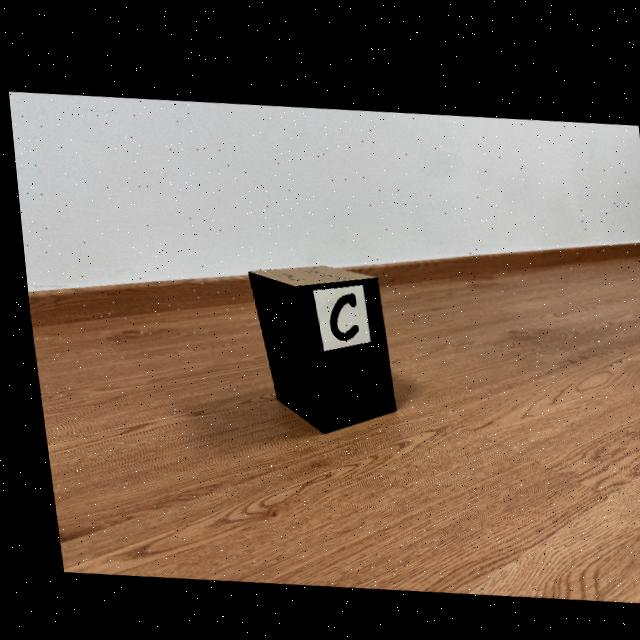C: (323, 287, 352, 334)
